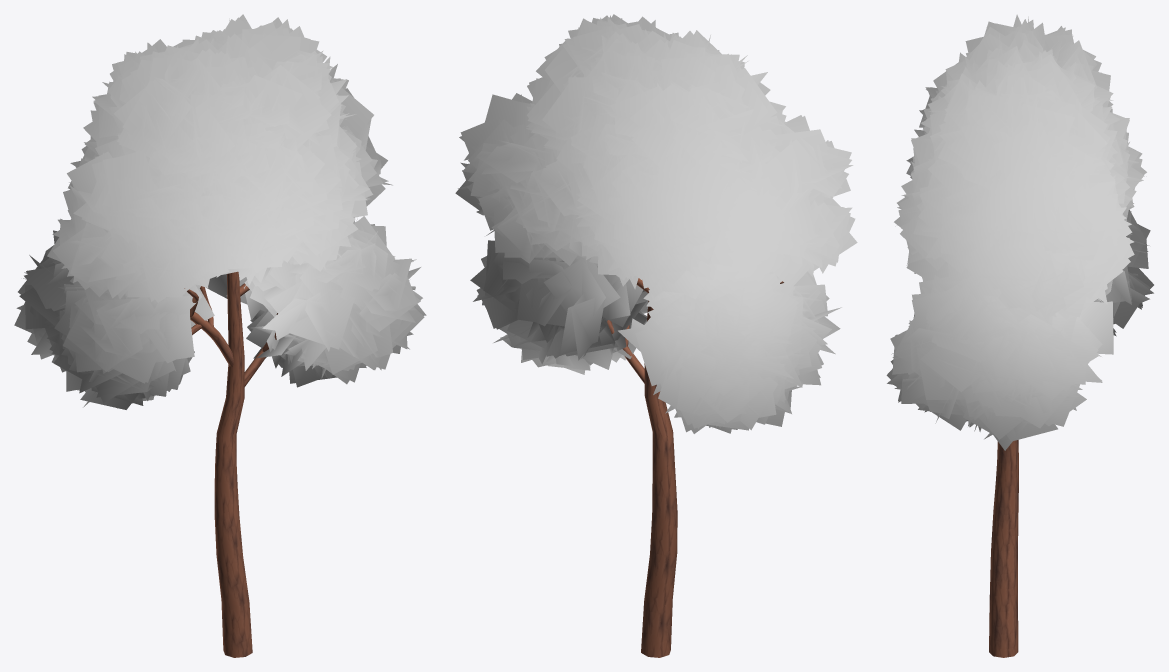
Rendered from q_tree_a.fbx.
3 renders of one model, left to right at view 1: azimuth 30°, elevation 25°; view 2: azimuth 150°, elevation 25°; view 3: azimuth 270°, elevation 25°, orthographic. The views are drawn at different scales.
Parts seen in each view (by area): view 1: q_tree_a; view 2: q_tree_a; view 3: q_tree_a.
Part boxes in pixels (x1,y1,x2,y2): q_tree_a: [14, 14, 426, 657]; q_tree_a: [455, 14, 857, 657]; q_tree_a: [886, 14, 1153, 657].
Size of the model in its own units: 0.59 by 1 by 0.3996.
